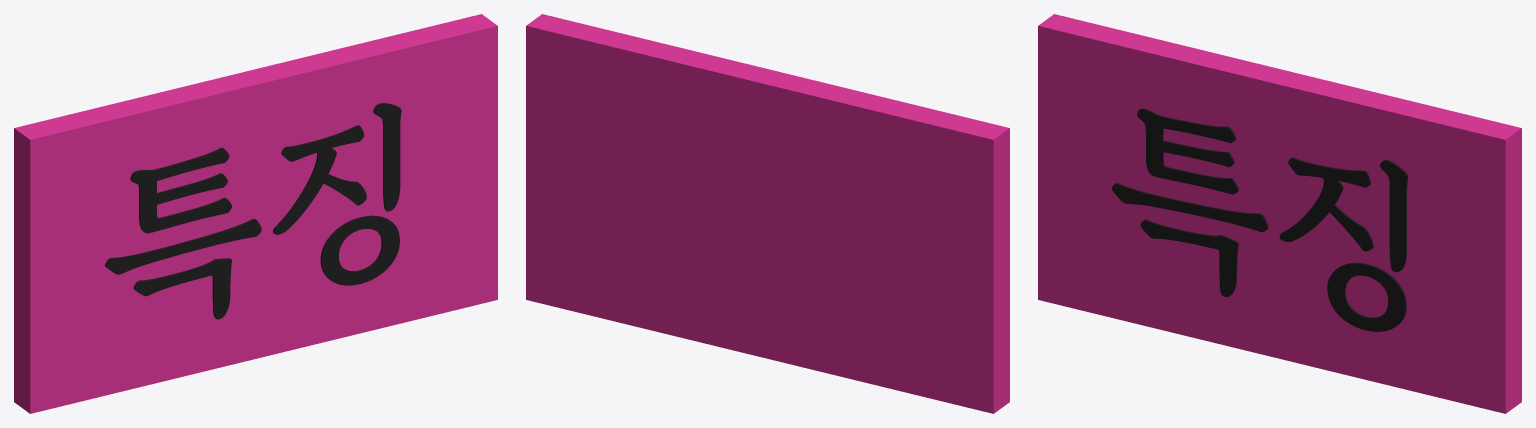
3 renders of one model, left to right at view 1: azimuth 30°, elevation 25°; view 2: azimuth 150°, elevation 25°; view 3: azimuth 330°, elevation 25°, orthographic.
Parts seen in each view (by area): view 1: Cube.014; view 2: Cube.014; view 3: Cube.014.
Part boxes in pixels (bbox=[...]): Cube.014: bbox=[14, 14, 497, 413]; Cube.014: bbox=[526, 14, 1009, 413]; Cube.014: bbox=[1038, 14, 1521, 413].
Bounding box in the file's own units: 10 × 5.6 × 0.64.
